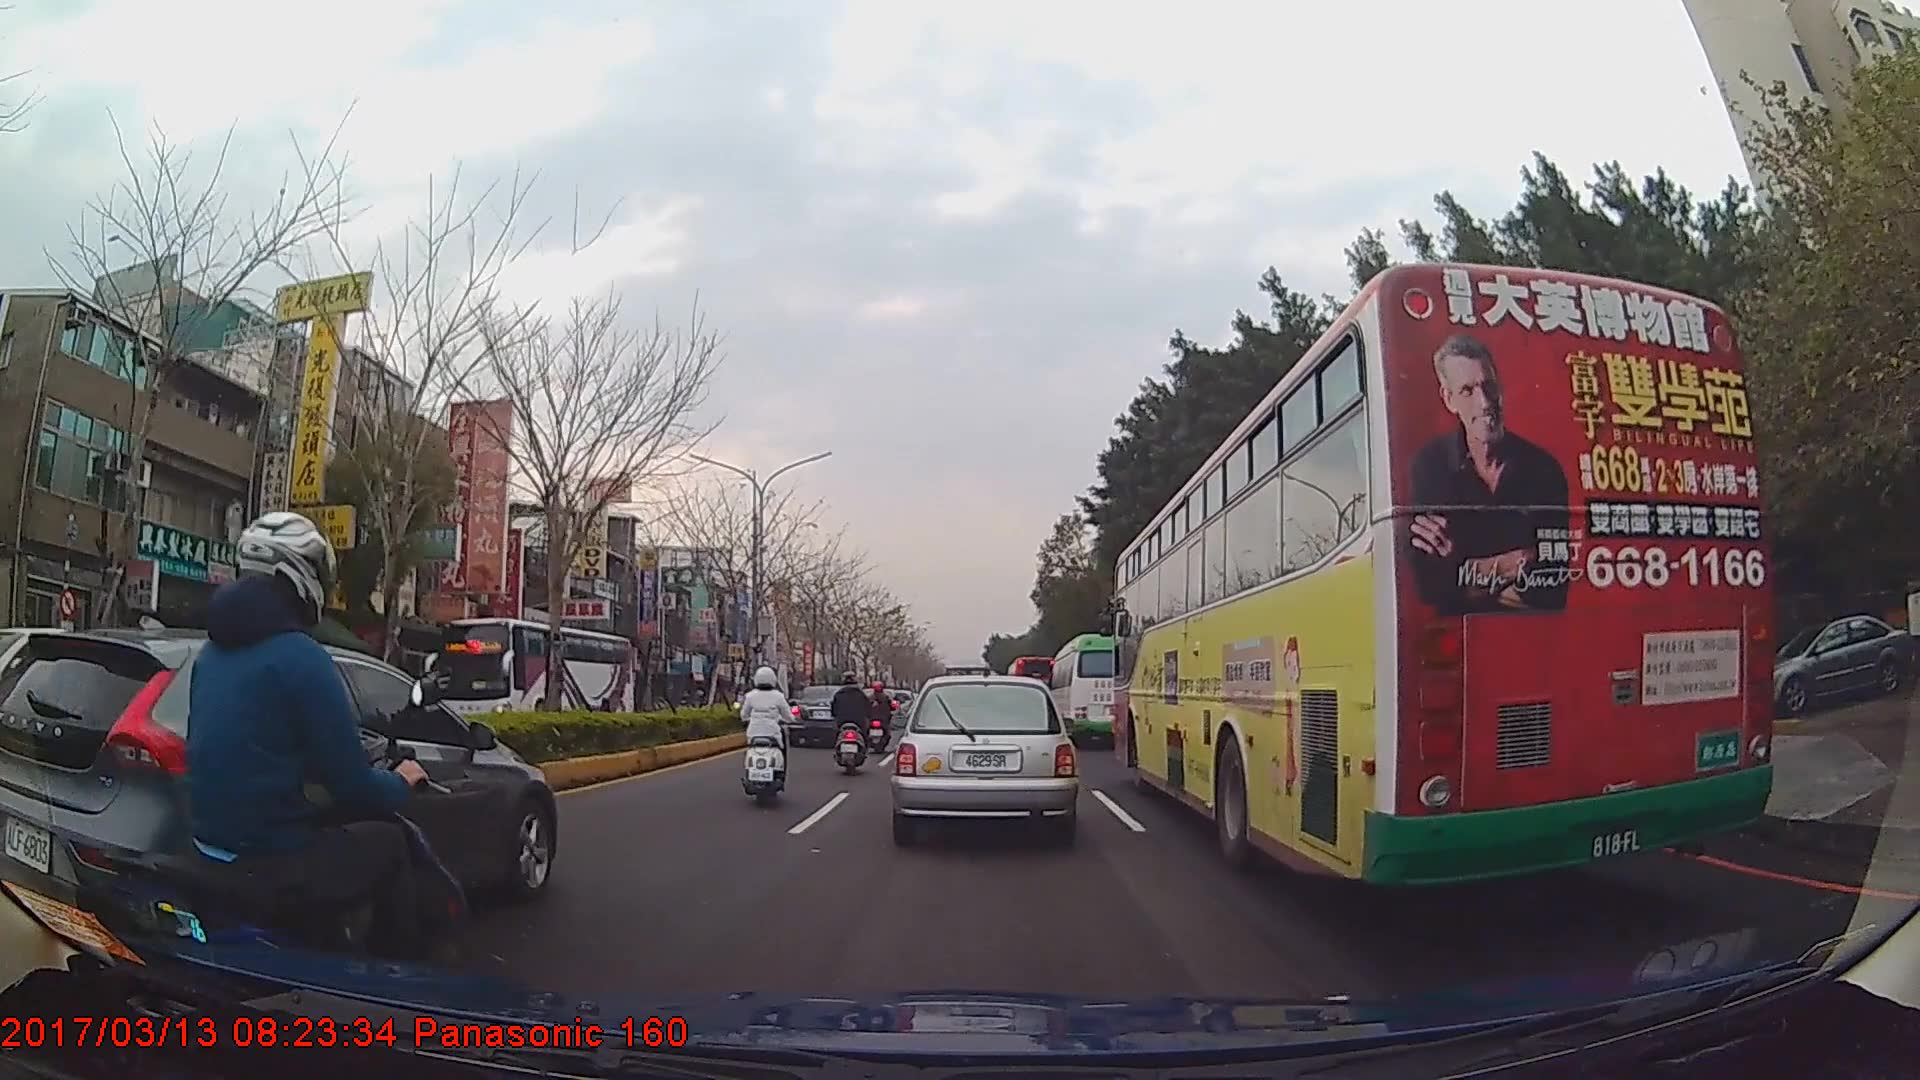rider: (74, 511, 459, 1043), (735, 662, 795, 803), (827, 673, 880, 765), (866, 679, 892, 749)
vehicle: (1108, 260, 1775, 890), (0, 626, 565, 963), (892, 672, 1076, 843), (435, 616, 635, 747), (1744, 610, 1909, 714), (1045, 630, 1142, 747), (789, 681, 870, 747), (1001, 651, 1057, 725)
